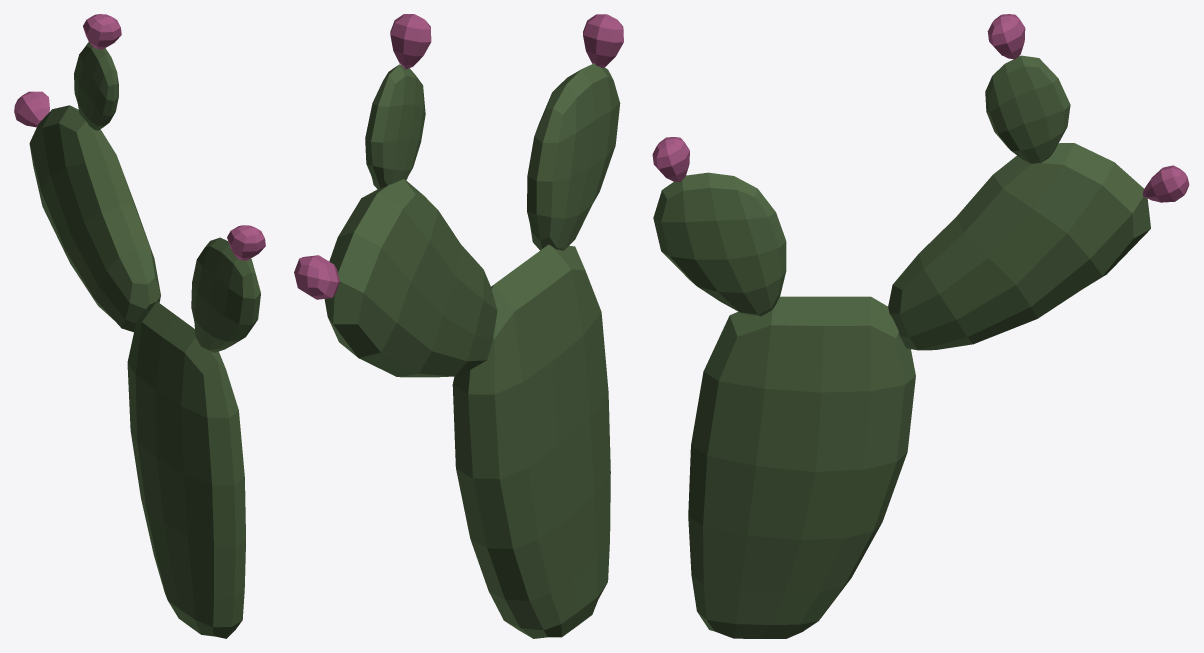
File: cactus_flower5.glb
The picture shows the model from 3 angles, left to right: view 1: azimuth 30°, elevation 25°; view 2: azimuth 150°, elevation 25°; view 3: azimuth 270°, elevation 25°; orthographic projection. The views are drawn at different scales.
Visible parts, largest first — view 1: CactusFlowers_5; view 2: CactusFlowers_5; view 3: CactusFlowers_5.
Boxes of the visible parts, x1,y1,x2,y2 form: CactusFlowers_5: (14, 14, 265, 638); CactusFlowers_5: (294, 14, 623, 638); CactusFlowers_5: (652, 14, 1189, 638).
Bounding box in the file's own units: 0.1117 × 0.9382 × 0.734.
